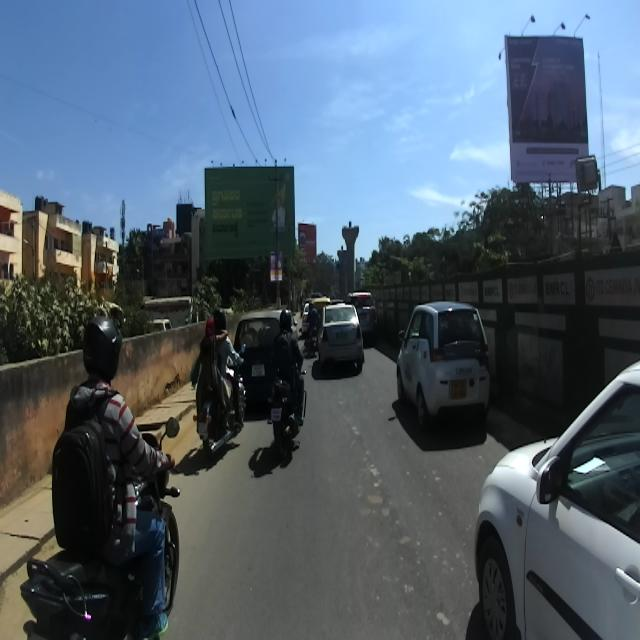car ahead at: (394, 288, 496, 438), (316, 301, 366, 371)
motorcycle ahead at: (25, 311, 186, 640), (194, 383, 240, 459), (268, 375, 305, 464)
